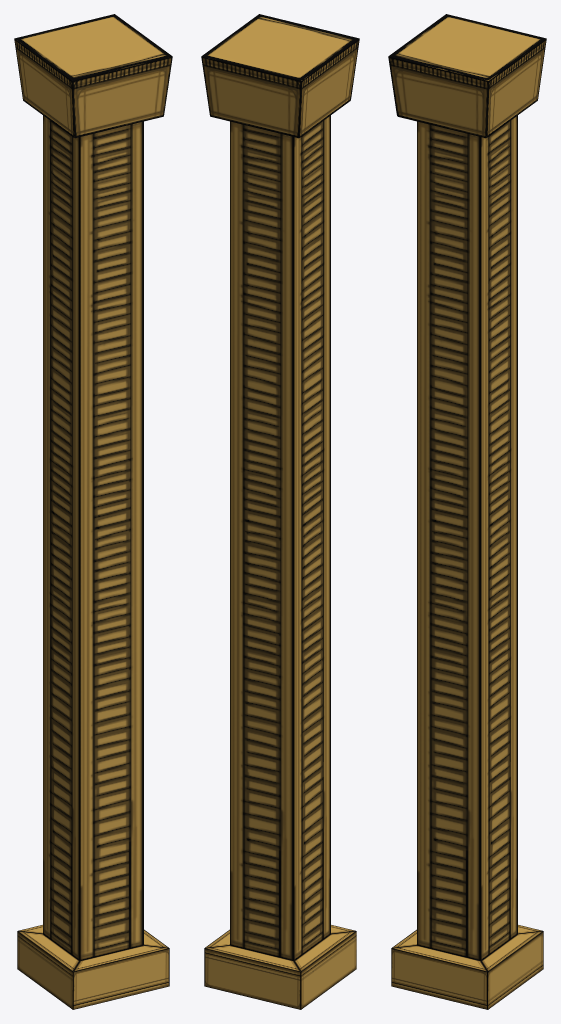
Rendered from fencePart1.fbx.
The picture shows the model from 3 angles, left to right: view 1: azimuth 30°, elevation 25°; view 2: azimuth 150°, elevation 25°; view 3: azimuth 330°, elevation 25°; orthographic projection.
Parts seen in each view (by area): view 1: Cube; view 2: Cube; view 3: Cube.
Boxes of the visible parts, x1,y1,x2,y2 form: Cube: [14, 14, 172, 1009]; Cube: [201, 14, 359, 1009]; Cube: [388, 14, 546, 1009].
Bounding box in the file's own units: 23.58 × 208 × 23.58.
